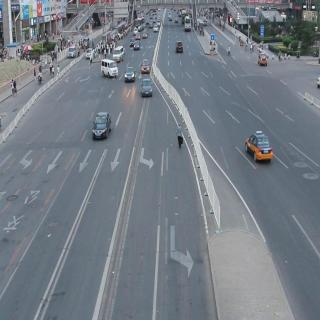BigCar: (182, 16, 193, 33)
Car: (241, 129, 273, 166), (94, 111, 113, 141), (102, 58, 119, 79), (141, 78, 154, 102), (124, 64, 137, 84), (67, 44, 79, 60), (139, 57, 151, 72), (114, 46, 125, 62), (84, 44, 94, 60), (175, 38, 184, 55), (258, 52, 267, 68), (134, 38, 141, 51), (142, 28, 149, 41), (153, 23, 158, 36)
